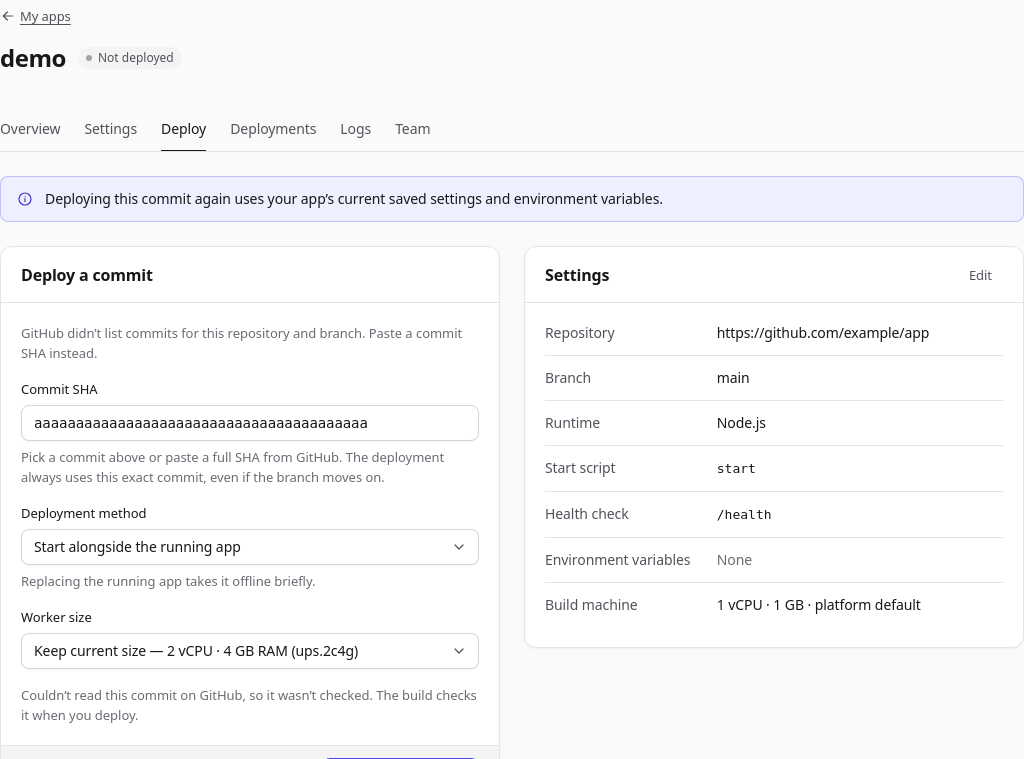
Scenario: worker size › blocks deployment while the chosen plan loads or fails and clears it on Keep current
Step 1. Select "4 vCPU · 8 GB RAM · 64 GB disk (ups.4c8g)" in the dropdown labelled "Worker size" → (250, 651), box [21,633,479,669]
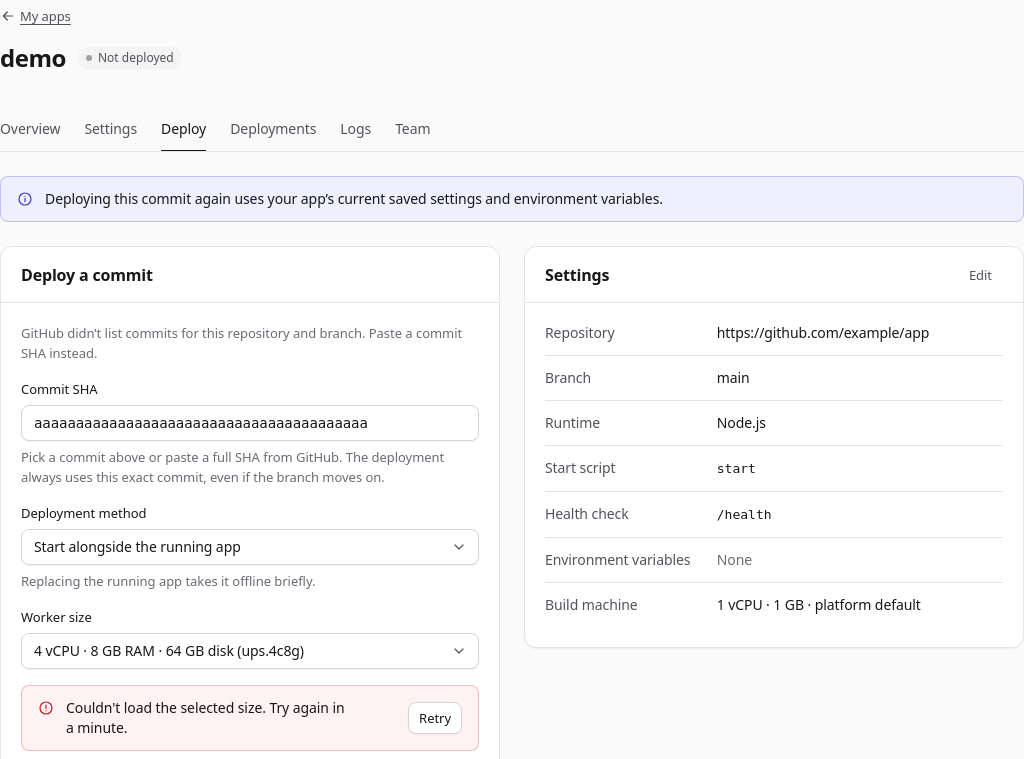
Expected: the text "Couldn't load the selected size. Try again in a minute." is shown, [66,698,344,737]
Step 2. Select "Keep current size — 2 vCPU · 4 GB RAM (ups.2c4g)" in the dropdown labelled "Worker size" → (250, 651), box [21,633,479,669]
(page scrolled)
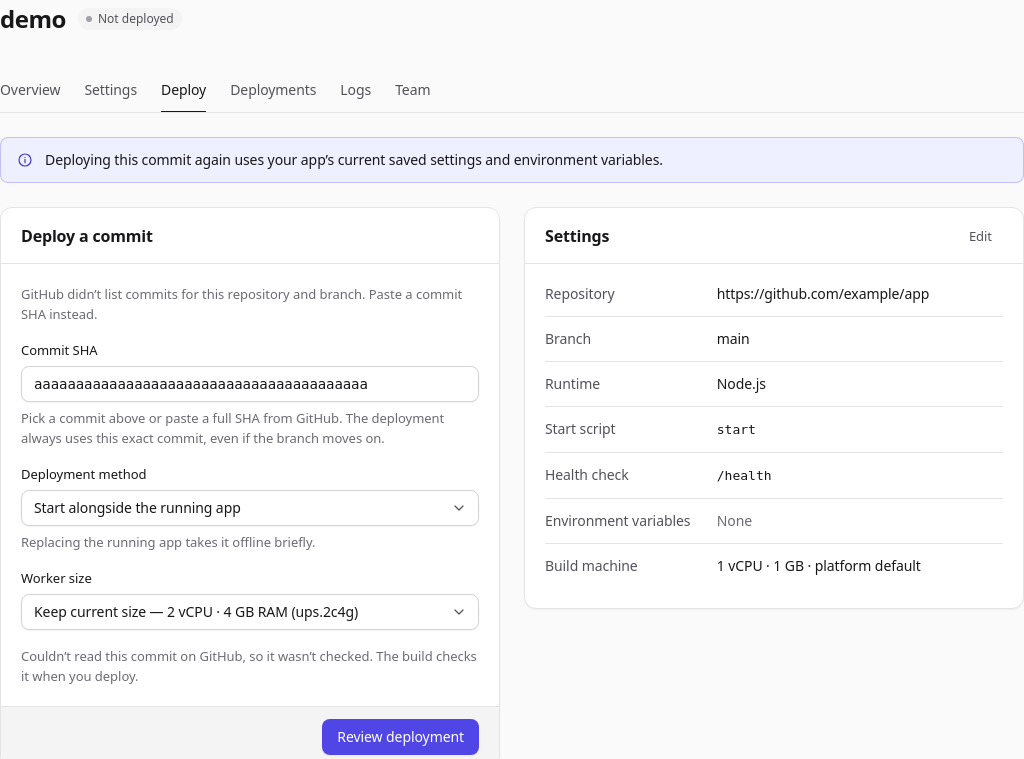
Expected: the button "Review deployment" is enabled, [322,719,479,755]
